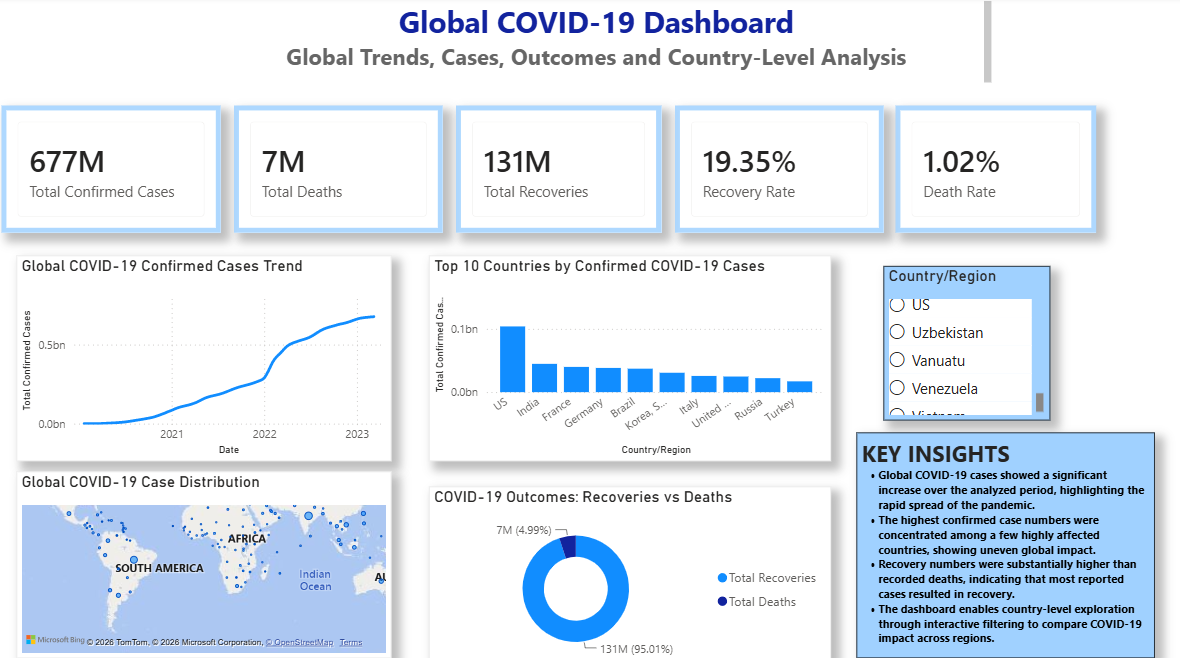

The dashboard page shown, as its layout file describes it:
{"tool":"powerbi","page":{"name":"Page 1","canvas":[1280,720],"ordinal":0},"visuals":[{"type":"cardVisual","fields":{"Data":["time_series_covid19_confirmed_global.Total Confirmed Cases"]},"box":[8.1,118.2,236.4,137.6],"z":0},{"type":"cardVisual","fields":{"Data":["time_series_covid19_deaths_global.Total Deaths"]},"box":[259.1,118.2,225.1,137.6],"z":1000},{"type":"cardVisual","fields":{"Data":["time_series_covid19_recovered_global.Total Recoveries"]},"box":[498.7,118.2,221.8,137.6],"z":2000},{"type":"cardVisual","fields":{"Data":["time_series_covid19_confirmed_global.Recovery Rate %"]},"box":[735.1,118.2,225.1,137.6],"z":3000},{"type":"cardVisual","fields":{"Data":["time_series_covid19_confirmed_global.Death Rate %"]},"box":[973.2,118.2,217,137.6],"z":4000},{"type":"lineChart","title":"Global COVID-19 Confirmed Cases Trend","fields":{"Category":["time_series_covid19_confirmed_global.Date"],"Y":["time_series_covid19_confirmed_global.Total Confirmed Cases"]},"box":[24.3,280.1,404.8,221.8],"z":5000},{"type":"clusteredColumnChart","title":"Top 10 Countries by Confirmed COVID-19 Cases","fields":{"Category":["time_series_covid19_confirmed_global.Country/Region"],"Y":["time_series_covid19_confirmed_global.Total Confirmed Cases"]},"box":[469.6,280.1,434,221.8],"z":6000},{"type":"donutChart","title":"COVID-19 Outcomes: Recoveries vs Deaths","fields":{"Y":["time_series_covid19_recovered_global.Total Recoveries","time_series_covid19_deaths_global.Total Deaths"]},"box":[469.6,529.5,434,191.1],"z":7000},{"type":"map","title":"Global COVID-19 Case Distribution","fields":{"Category":["time_series_covid19_confirmed_global.Country/Region"],"Size":["time_series_covid19_confirmed_global.Total Confirmed Cases"]},"box":[24.3,513.3,404.8,202.4],"z":8000},{"type":"listSlicer","fields":{"Values":["Countries.Country/Region"]},"box":[960.2,291.5,179.7,166.8],"z":9000},{"type":"textbox","box":[226.7,0,855,100.4],"z":10000},{"type":"textbox","box":[931.1,471.2,322.2,244.5],"z":11000}]}

Visuals, with their boxes in screenshot pixels (x1, y1, x2, y2), scaled from the page's 1280x720 canvas onto the 1180x658 screenshot:
cardVisual - time_series_covid19_confirmed_global.Total Confirmed Cases: detection(7, 108, 225, 234)
cardVisual - time_series_covid19_deaths_global.Total Deaths: detection(239, 108, 446, 234)
cardVisual - time_series_covid19_recovered_global.Total Recoveries: detection(460, 108, 664, 234)
cardVisual - time_series_covid19_confirmed_global.Recovery Rate %: detection(678, 108, 885, 234)
cardVisual - time_series_covid19_confirmed_global.Death Rate %: detection(897, 108, 1097, 234)
"Global COVID-19 Confirmed Cases Trend" lineChart: detection(22, 256, 396, 459)
"Top 10 Countries by Confirmed COVID-19 Cases" clusteredColumnChart: detection(433, 256, 833, 459)
"COVID-19 Outcomes: Recoveries vs Deaths" donutChart: detection(433, 484, 833, 657)
"Global COVID-19 Case Distribution" map: detection(22, 469, 396, 654)
listSlicer - Countries.Country/Region: detection(885, 266, 1051, 419)
textbox: detection(209, 0, 997, 92)
textbox: detection(858, 431, 1155, 654)
